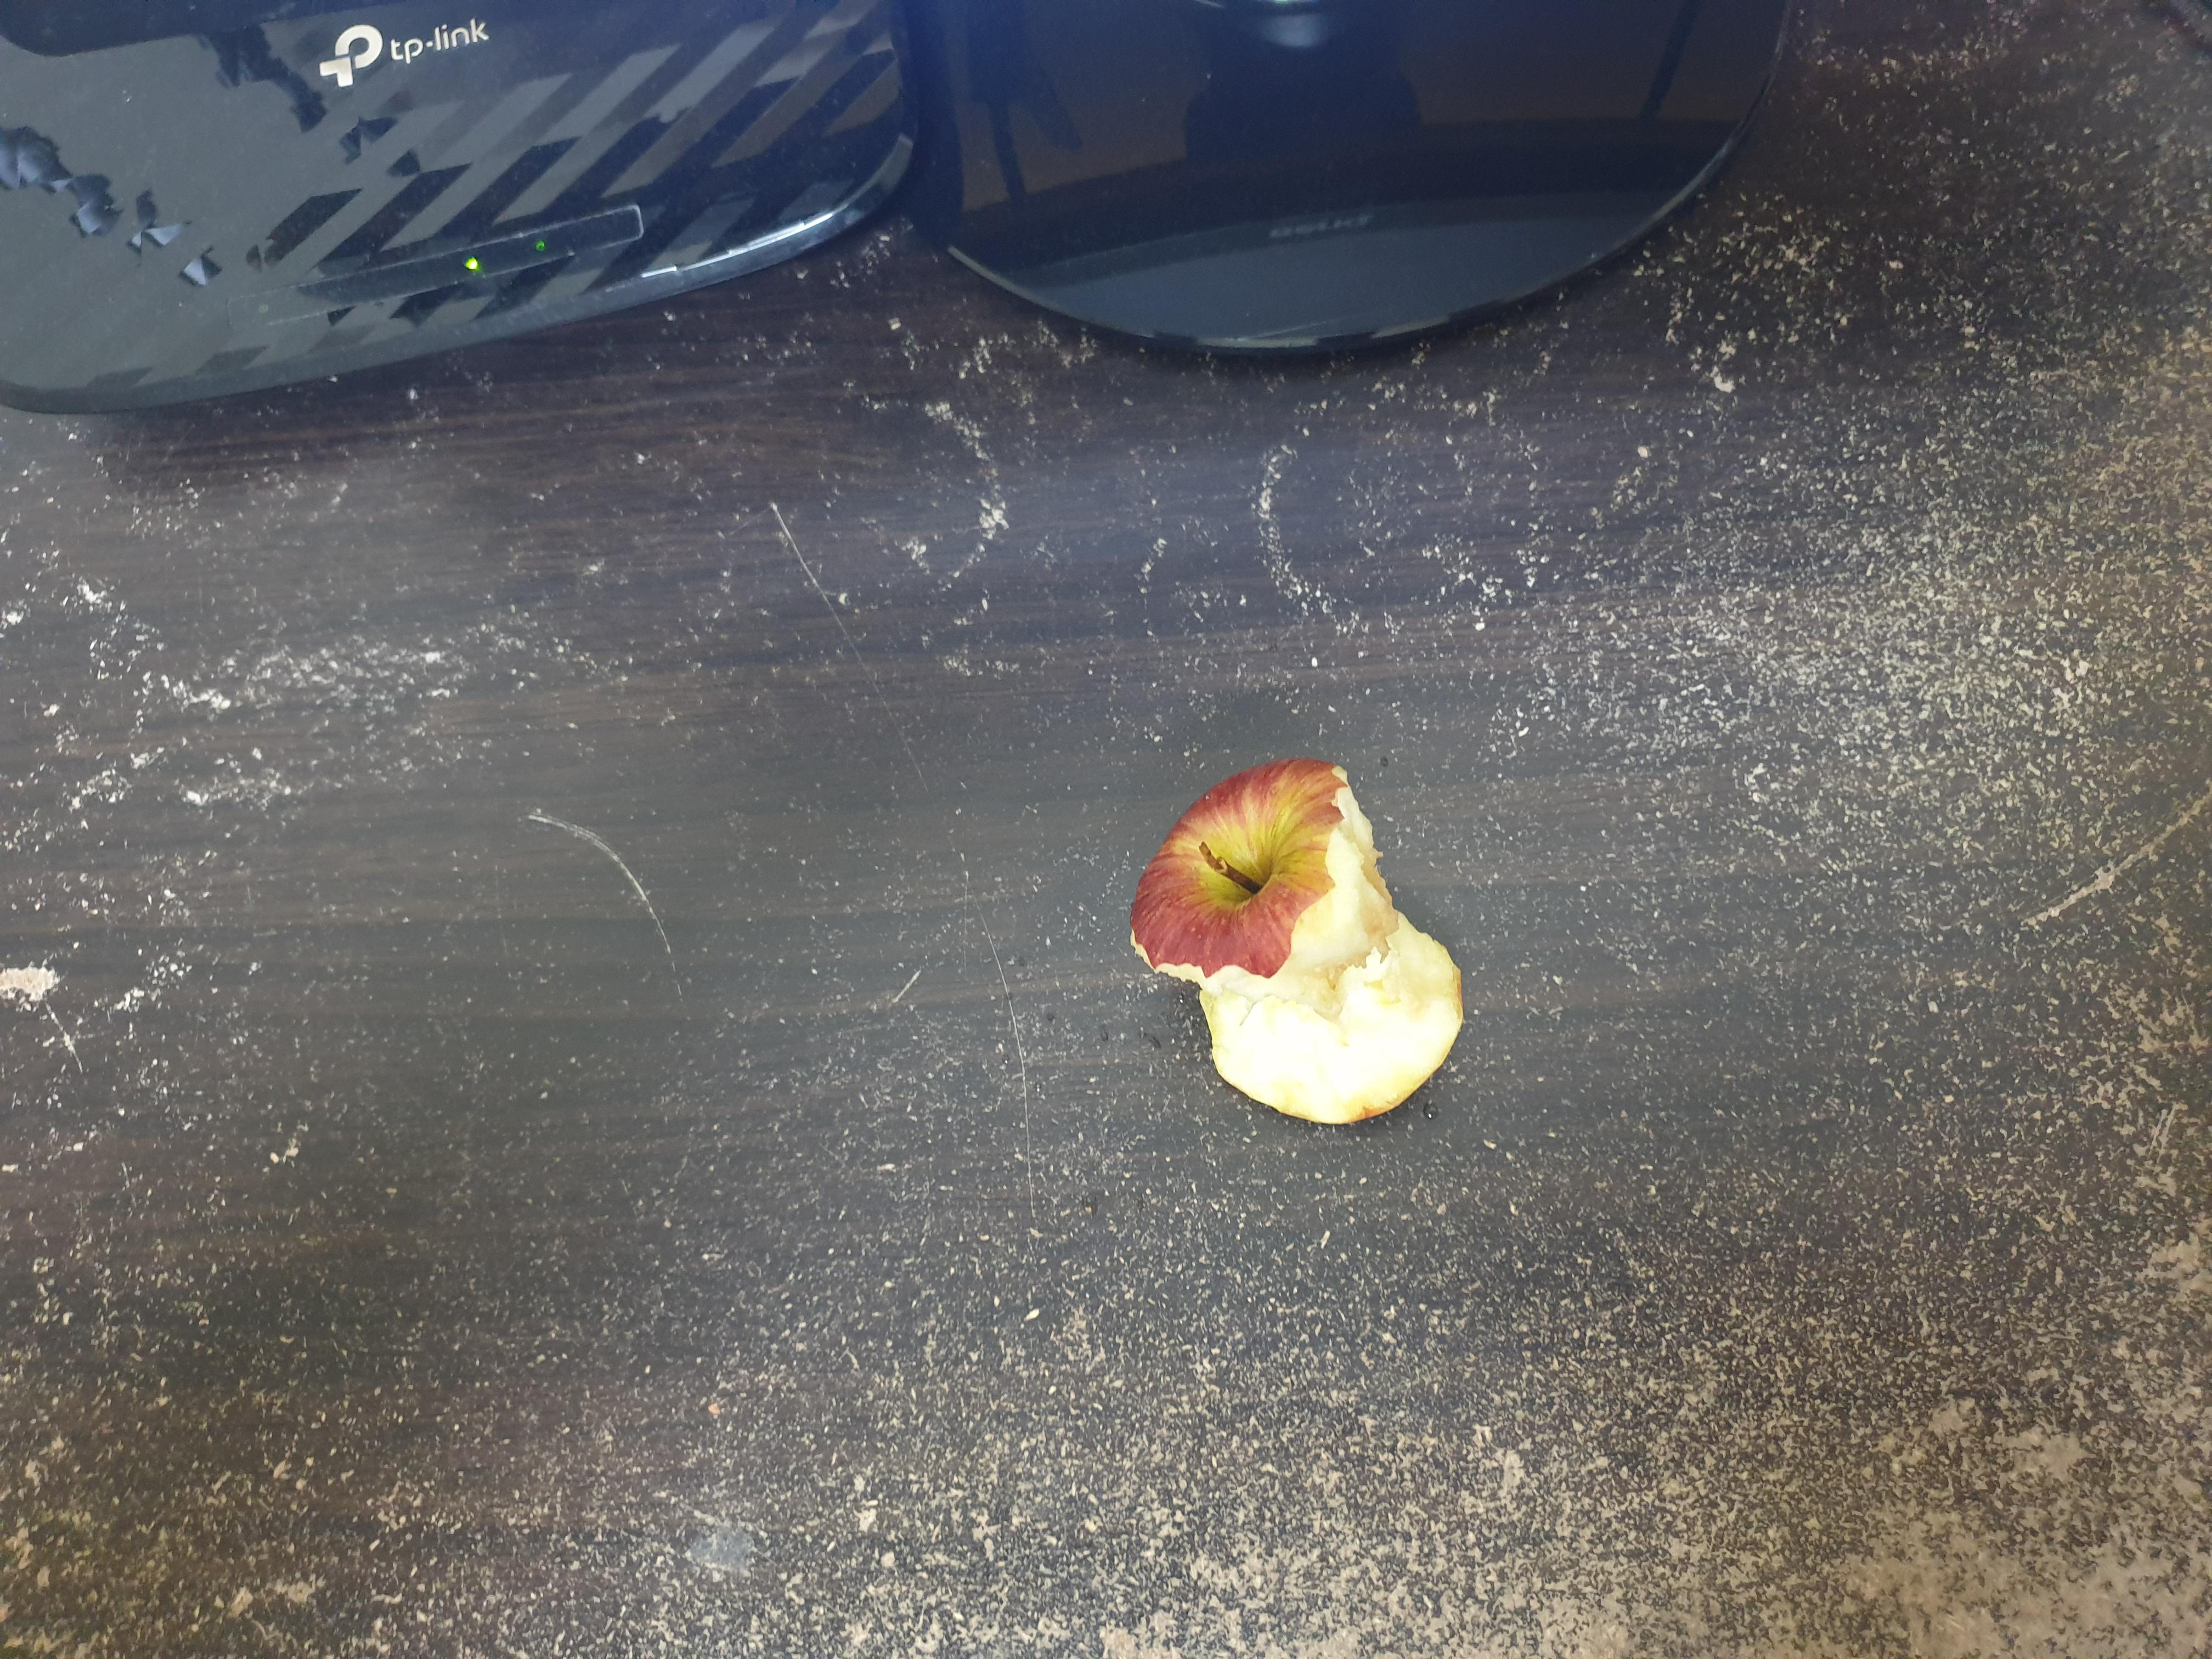Apple: (1103, 739, 1501, 1152)
